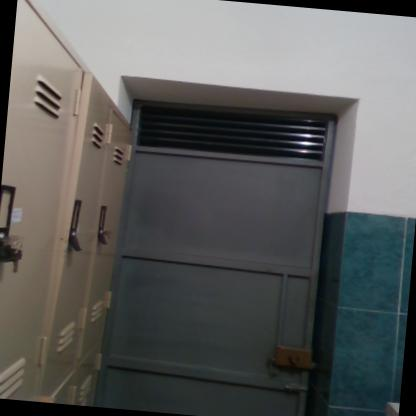closed: (18, 39, 378, 415)
